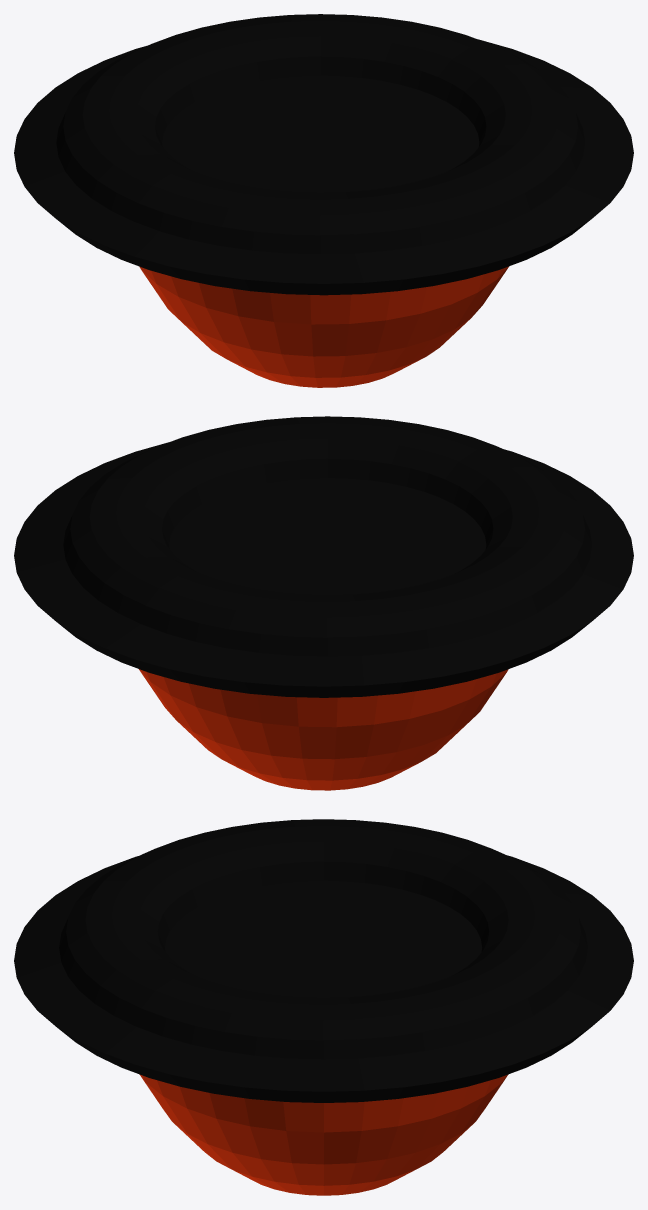
The model's file is Alarm.fbx.
The picture shows the model from 3 angles, top to bottom: view 1: azimuth 30°, elevation 25°; view 2: azimuth 150°, elevation 25°; view 3: azimuth 270°, elevation 25°; orthographic projection.
Visible parts, largest first — view 1: Torus, Sphere; view 2: Torus, Sphere; view 3: Torus, Sphere.
Boxes of the visible parts, x1=… form: Torus: x1=14, y1=14, x2=633, y2=295; Sphere: x1=139, y1=266, x2=508, y2=387; Torus: x1=14, y1=416, x2=633, y2=697; Sphere: x1=139, y1=669, x2=508, y2=790; Torus: x1=14, y1=819, x2=633, y2=1102; Sphere: x1=139, y1=1074, x2=508, y2=1195.
Bounding box in the file's own units: 162 × 75.95 × 162.
